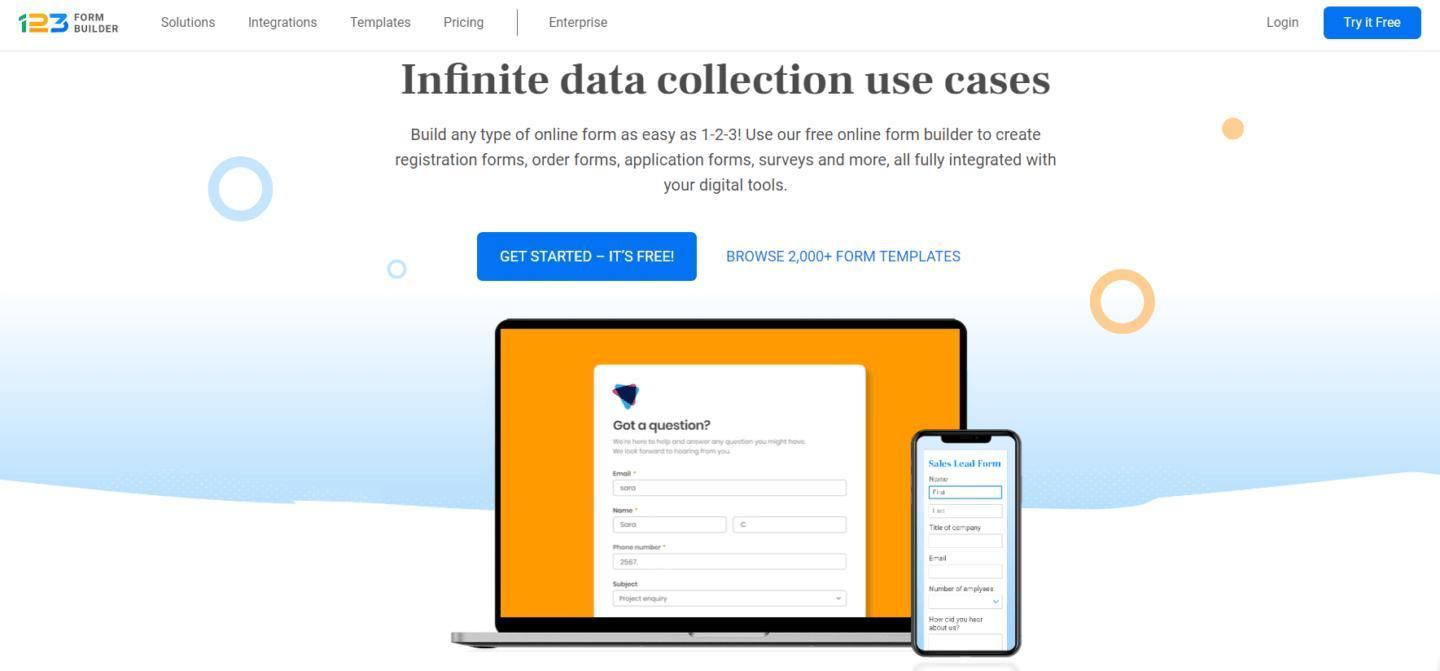button: (479, 234, 699, 281), (1324, 7, 1424, 39)
label: (726, 249, 965, 268), (245, 13, 323, 35), (550, 13, 609, 33), (348, 15, 416, 32), (163, 14, 219, 34), (1263, 14, 1305, 38), (443, 14, 486, 34)
